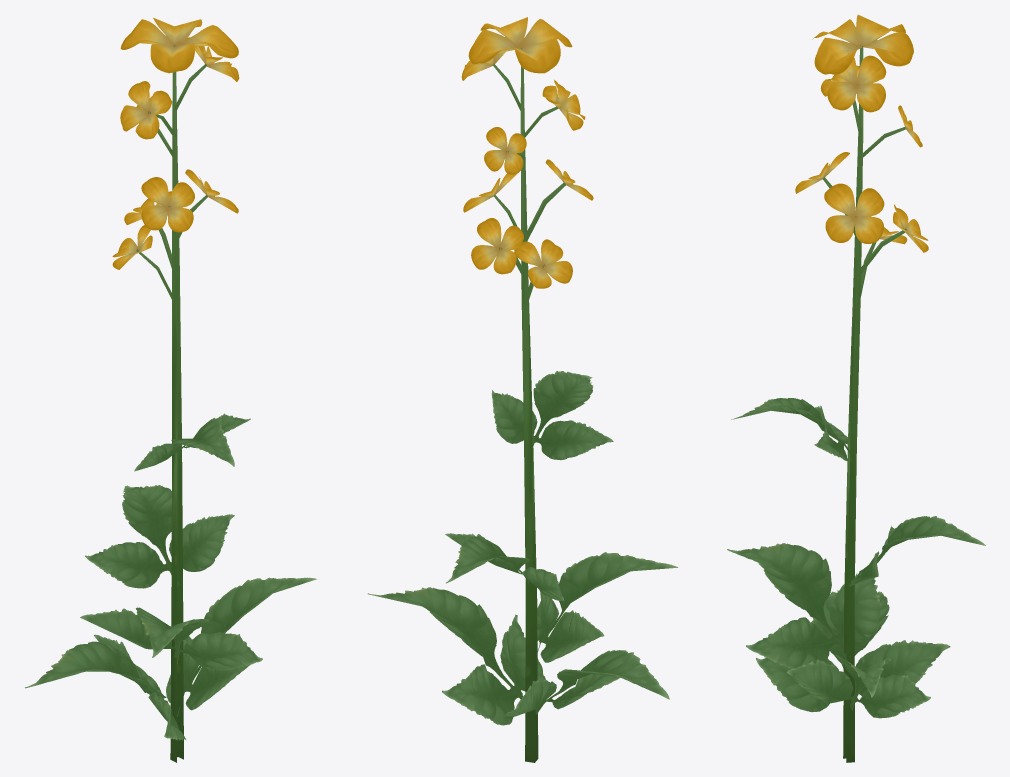
File: SM_EastLands_Rapeseed_01.fbx
The picture shows the model from 3 angles, left to right: view 1: azimuth 30°, elevation 25°; view 2: azimuth 150°, elevation 25°; view 3: azimuth 270°, elevation 25°; orthographic projection.
Visible parts, largest first — view 1: SM_EastLands_Rapeseed_01_LOD0; view 2: SM_EastLands_Rapeseed_01_LOD0; view 3: SM_EastLands_Rapeseed_01_LOD0.
Part boxes in pixels (x1=…): SM_EastLands_Rapeseed_01_LOD0: x1=25, y1=17, x2=316, y2=762; SM_EastLands_Rapeseed_01_LOD0: x1=367, y1=17, x2=677, y2=762; SM_EastLands_Rapeseed_01_LOD0: x1=727, y1=14, x2=985, y2=762.
Bounding box in the file's own units: 66.07 × 145 × 49.6.
